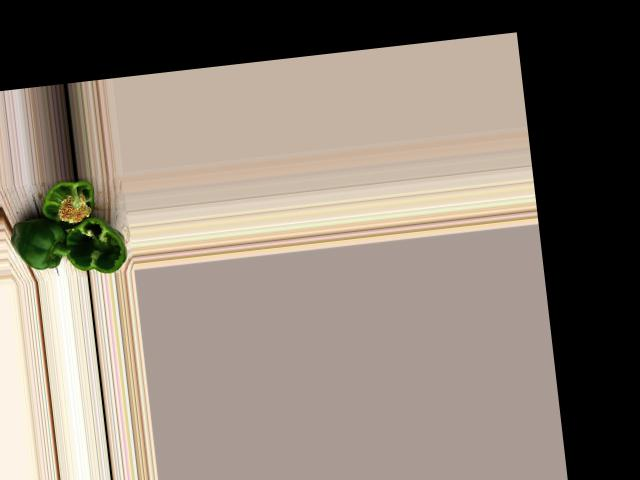bell_pepper: (35, 177, 108, 231)
